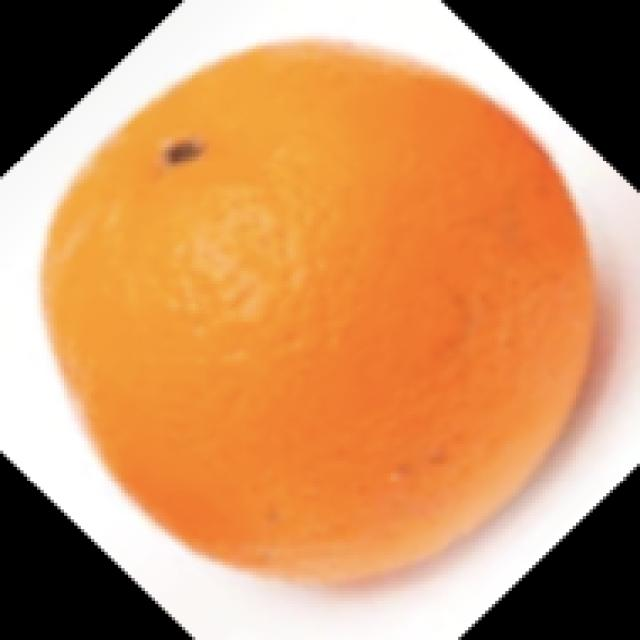orange: (68, 14, 598, 562)
